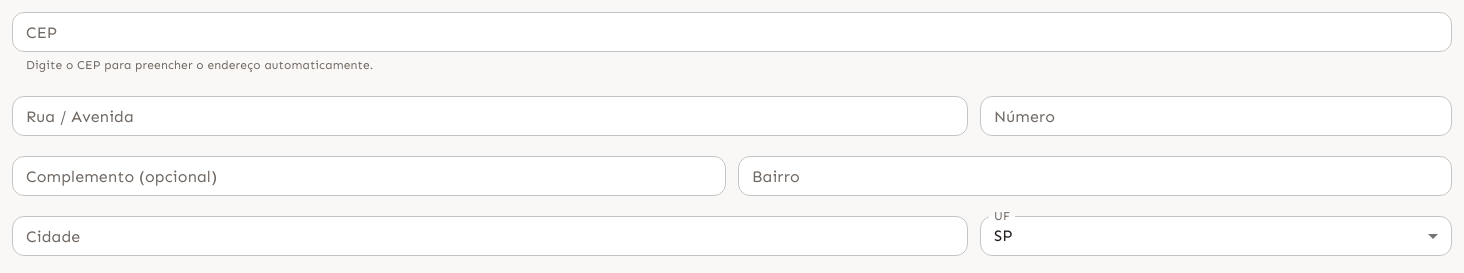
Test: preserva edições durante a consulta e ignora uma resposta de CEP anterior
Step 1. Type "01001000" into the field labelled "CEP" → coordinates (732, 32), box [12,12,1452,52]
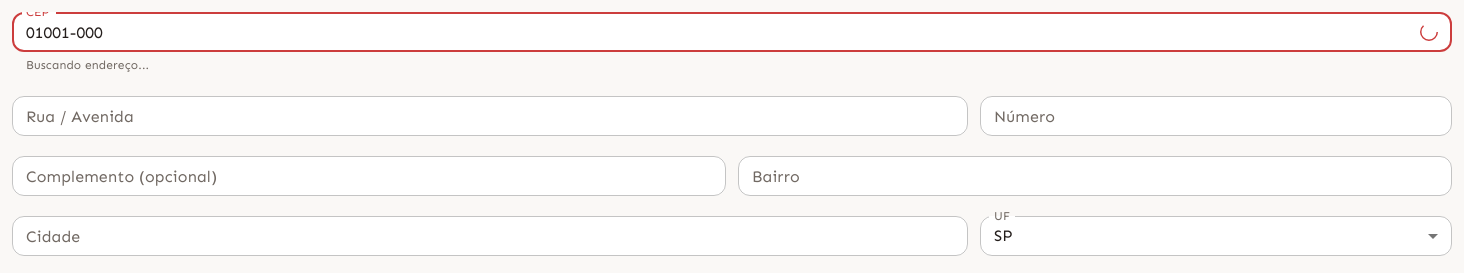
Step 2. Clear the field labelled "CEP" → coordinates (712, 32), box [12,12,1412,52]
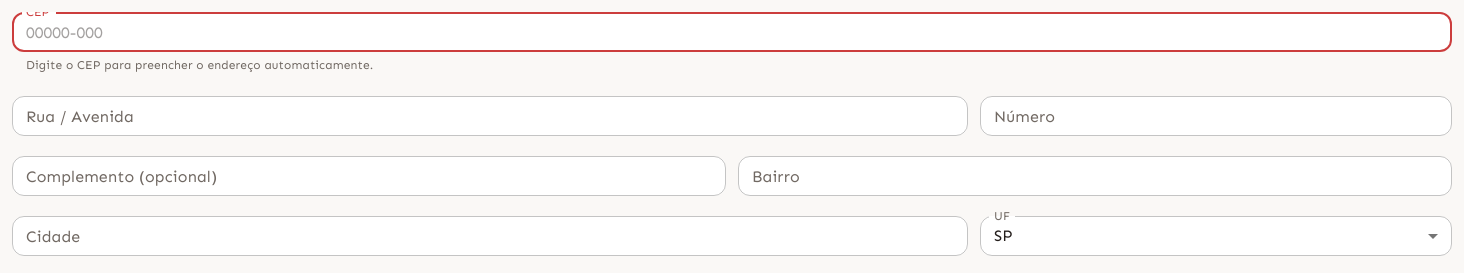
Step 3. Type "20040002" into the field labelled "CEP" → coordinates (732, 32), box [12,12,1452,52]
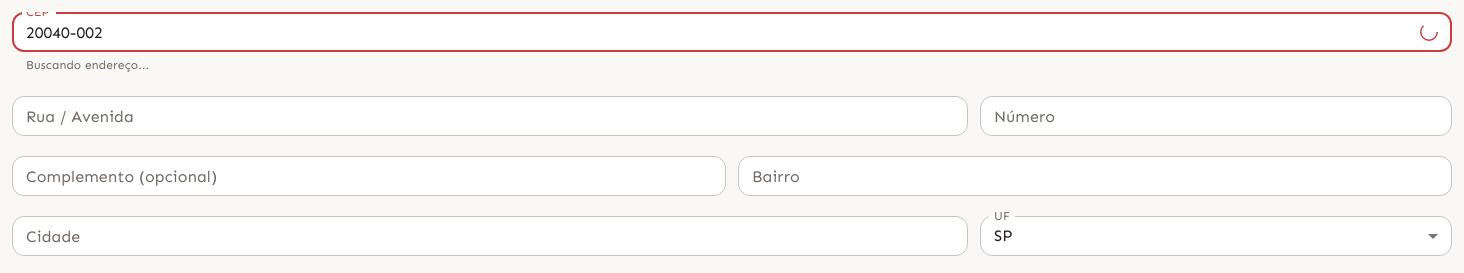
Step 4. Type "Rua informada pelo cliente" into the field labelled "Rua / Avenida" → coordinates (490, 116), box [12,96,968,136]
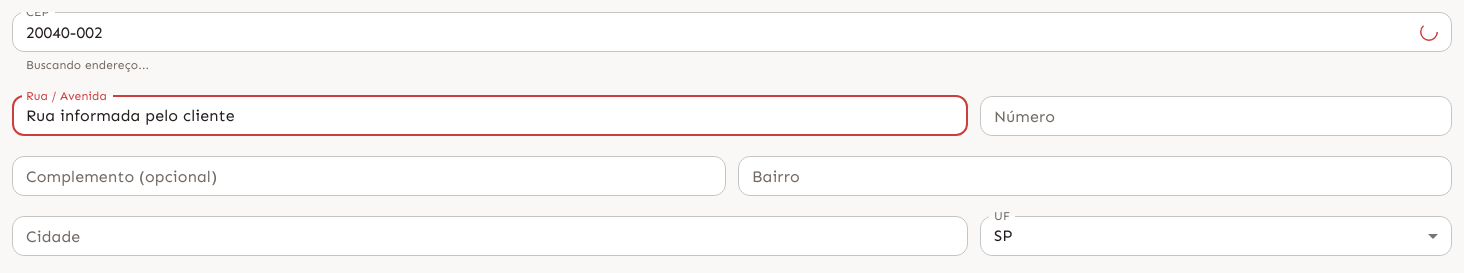
Step 5. Type "42" into the field labelled "Número" → coordinates (1216, 116), box [980,96,1452,136]
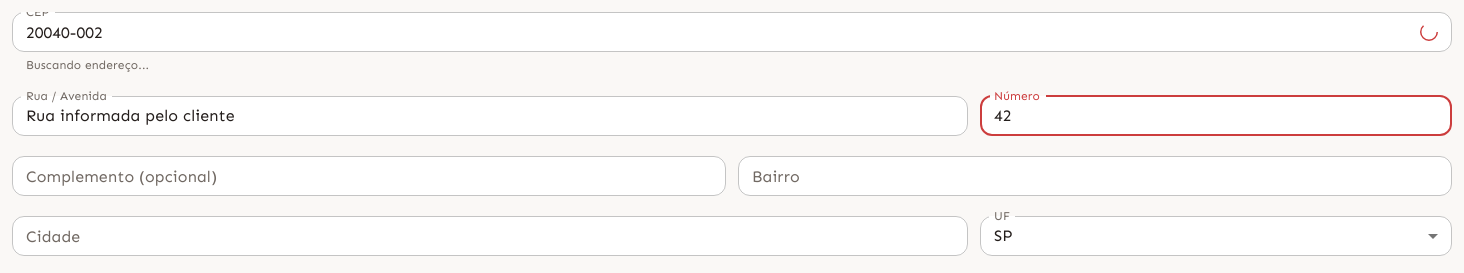
Step 6. Type "Apartamento 101" into the field labelled "Complemento (opcional)" → coordinates (369, 176), box [12,156,726,196]
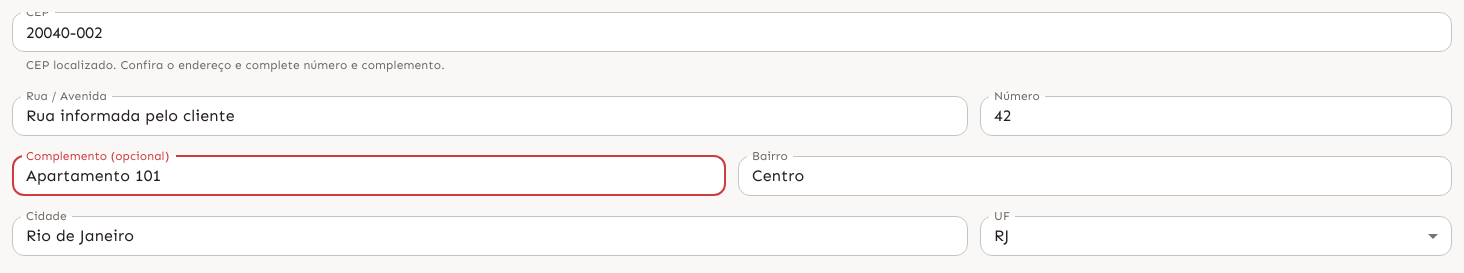
Expected: the field labelled "Cidade" holds "Rio de Janeiro", [12,216,968,256]
Expected: the dropdown named "UF" reads "RJ", [994,226,1009,245]
